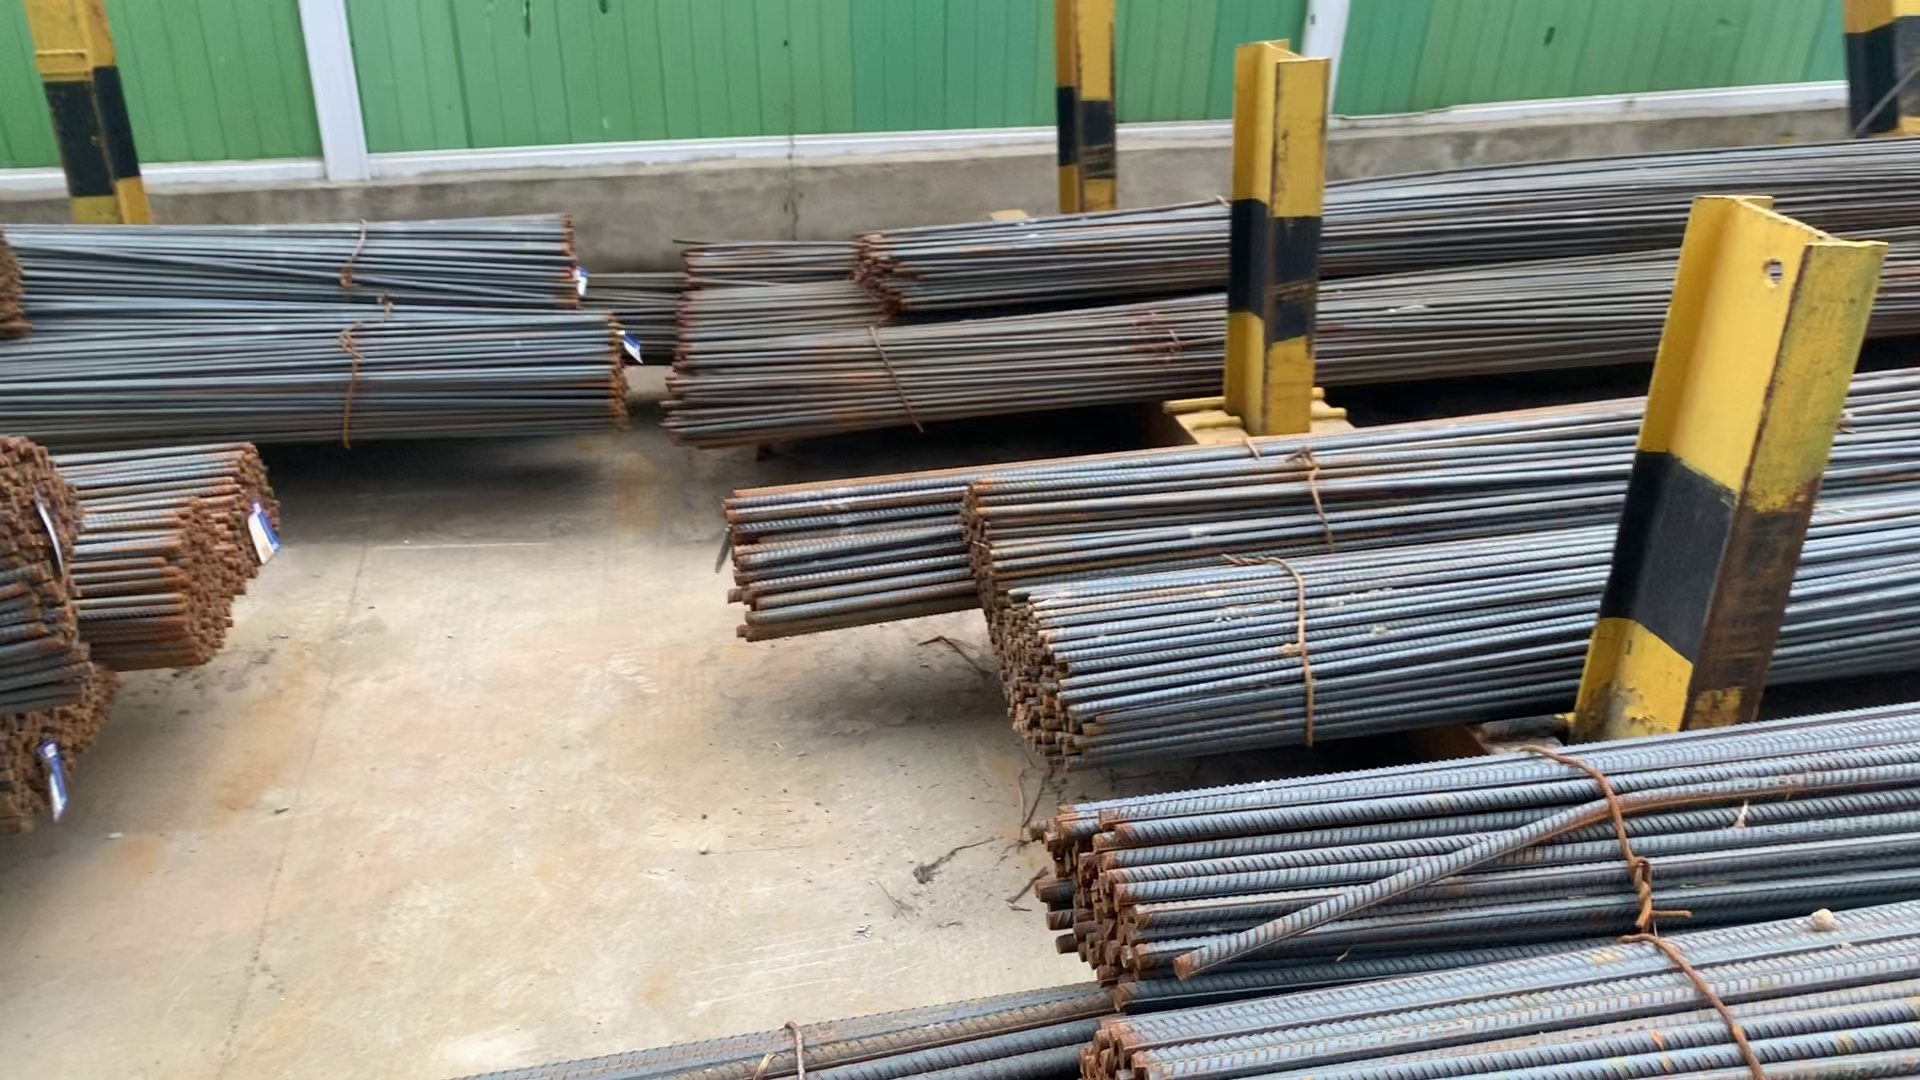rebar: (3, 439, 100, 712), (1043, 810, 1158, 992), (996, 585, 1093, 771), (198, 440, 289, 570), (161, 510, 243, 651), (709, 491, 779, 645), (953, 481, 1004, 615), (1073, 1004, 1156, 1080), (587, 324, 638, 425), (855, 229, 914, 310)
